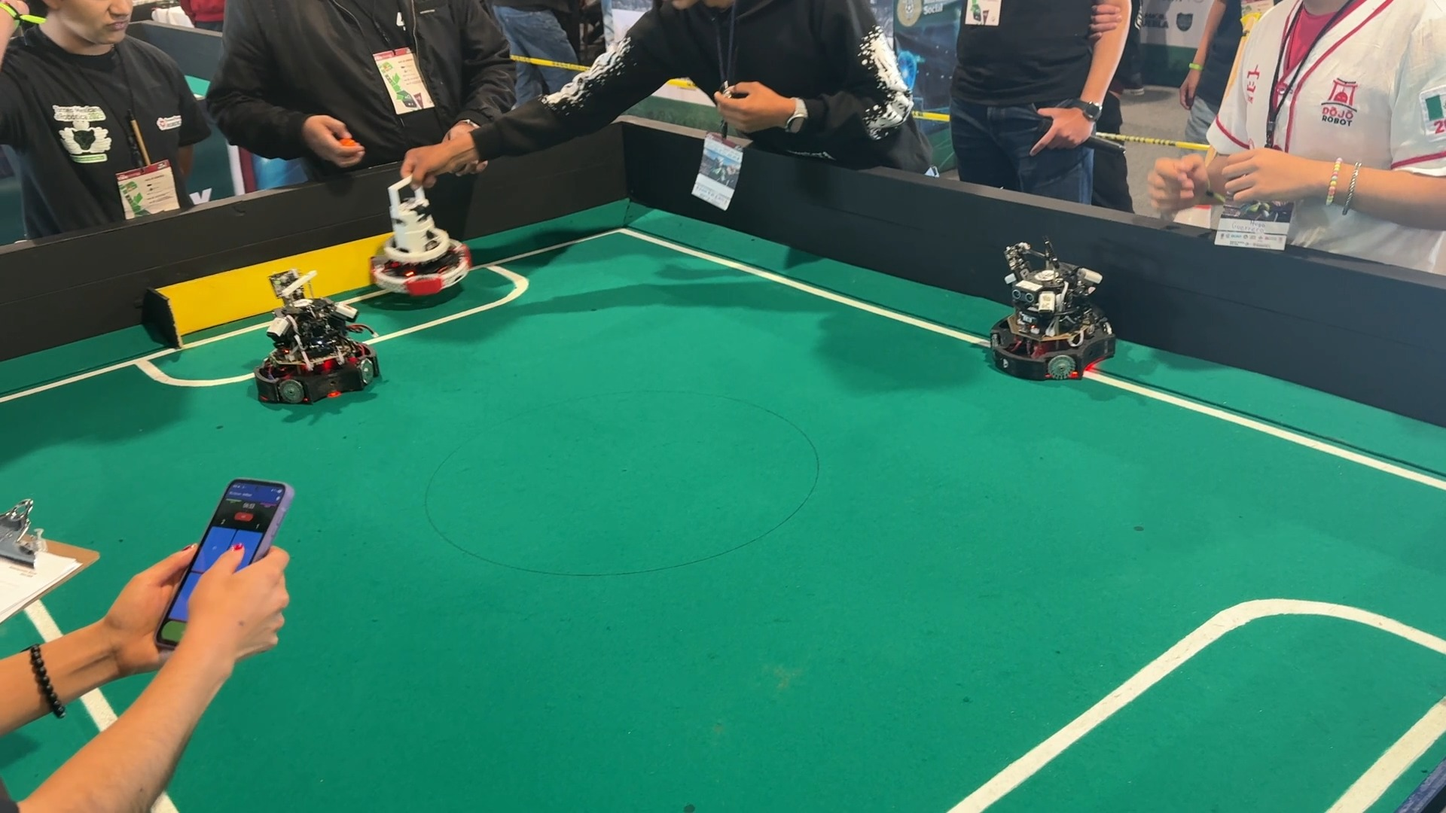Robot: (962, 234, 1141, 397), (242, 262, 393, 425), (352, 167, 490, 319)
